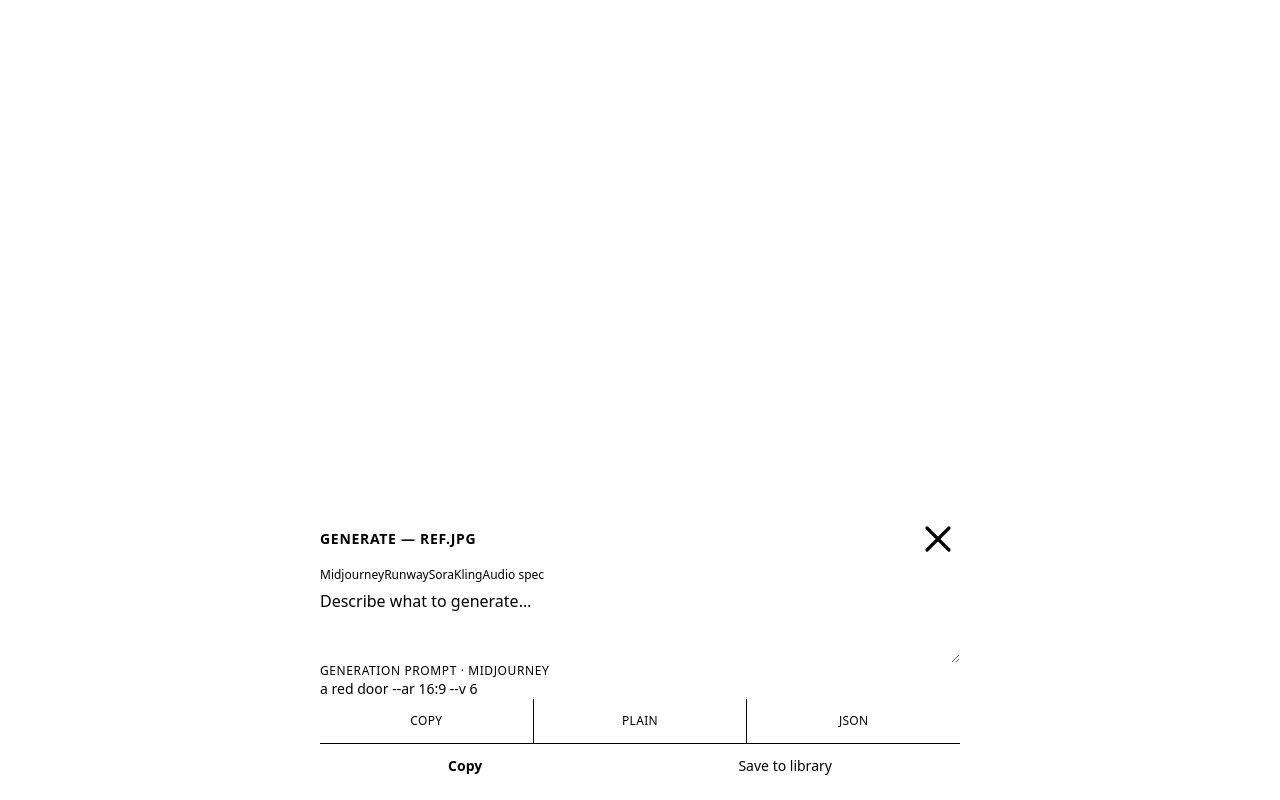
save-with-outbox — GenerateSheet › offline with an owner queues, with the sheet's own copy
The width and height of the screenshot is (1280, 800).
Click the button "Save to library": (785, 766) [610,744,960,788]
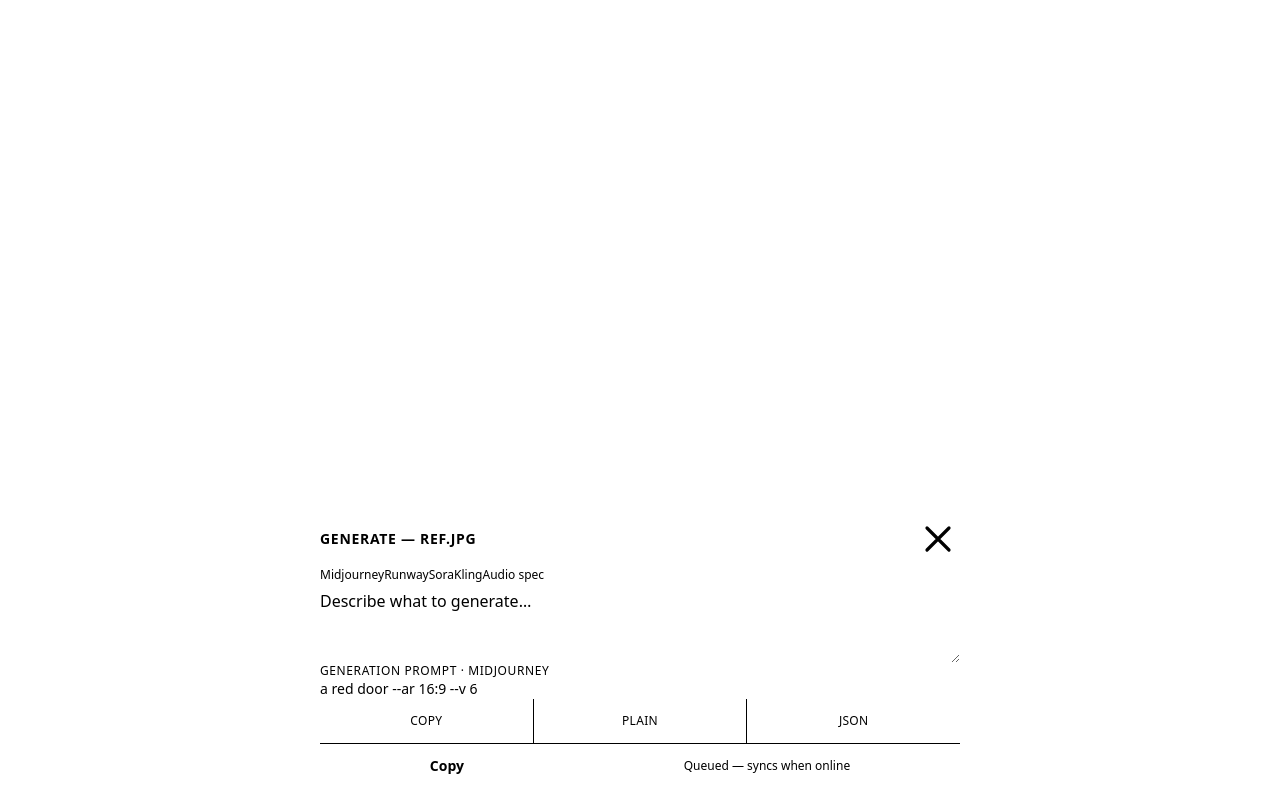
Expected: the text "Queued — syncs when online" is shown, [684,757,850,774]
